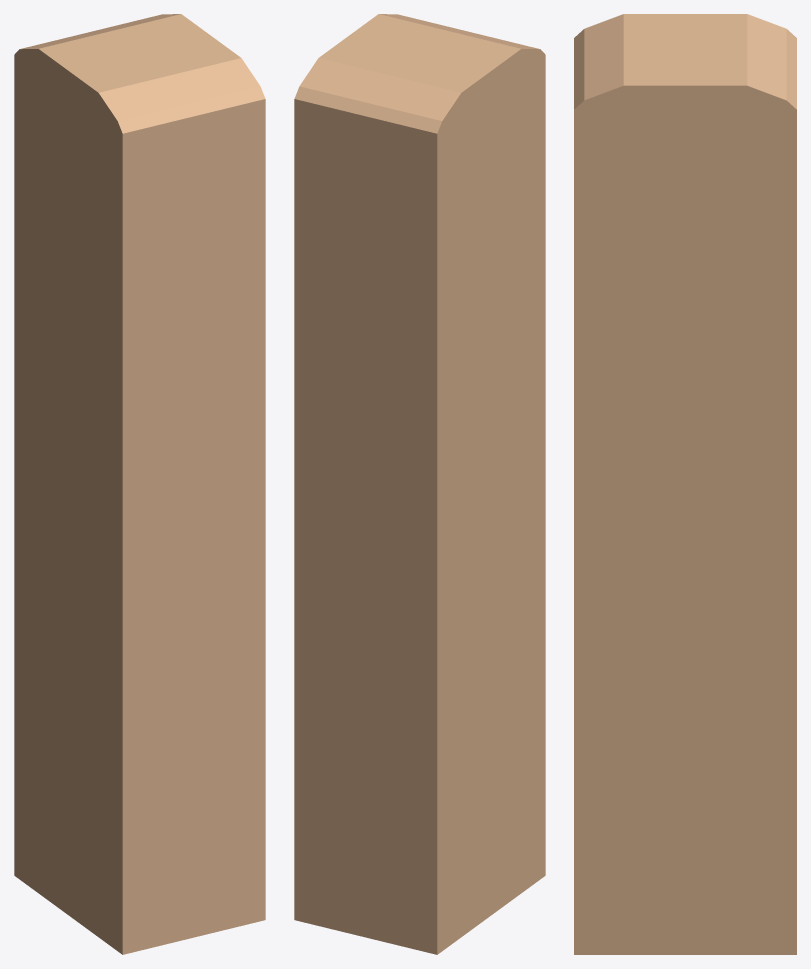
The model's file is Post A.fbx.
3 renders of one model, left to right at view 1: azimuth 30°, elevation 25°; view 2: azimuth 150°, elevation 25°; view 3: azimuth 270°, elevation 25°, orthographic. The views are drawn at different scales.
Parts seen in each view (by area): view 1: Post A; view 2: Post A; view 3: Post A.
Part boxes in pixels (<box>): Post A: <box>14,14,265,954</box>; Post A: <box>294,14,545,954</box>; Post A: <box>574,14,796,954</box>.
Size of the model in its own units: 34.65 by 196 by 45.46.
